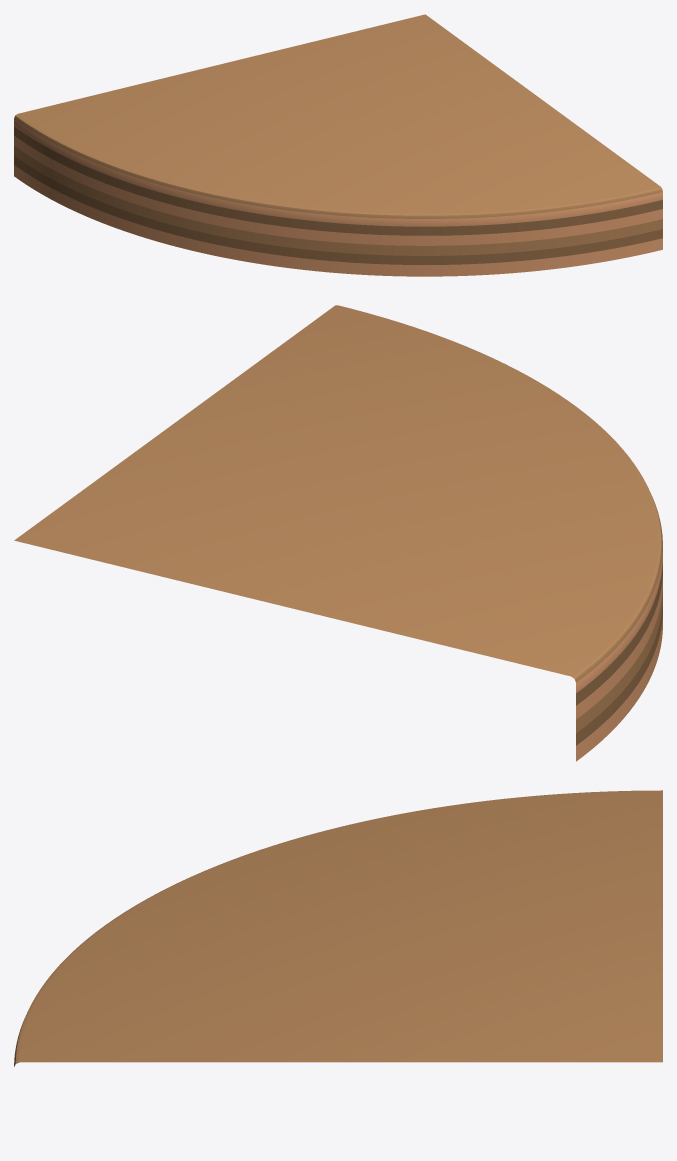
Rendered from platform_dirt_corner_round7_tall.gltf.
3 views of the same model, one above another, from view 1: azimuth 30°, elevation 25°; view 2: azimuth 150°, elevation 25°; view 3: azimuth 270°, elevation 25° (orthographic). The views are drawn at different scales.
Visible parts, largest first — view 1: Cube_Dirt_Corner_Round7_Tall; view 2: Cube_Dirt_Corner_Round7_Tall; view 3: Cube_Dirt_Corner_Round7_Tall.
Boxes of the visible parts, x1,y1,x2,y2 form: Cube_Dirt_Corner_Round7_Tall: [14, 14, 662, 276]; Cube_Dirt_Corner_Round7_Tall: [14, 305, 662, 761]; Cube_Dirt_Corner_Round7_Tall: [14, 790, 662, 1066].
Bounding box in the file's own units: 14 × 2 × 14.
